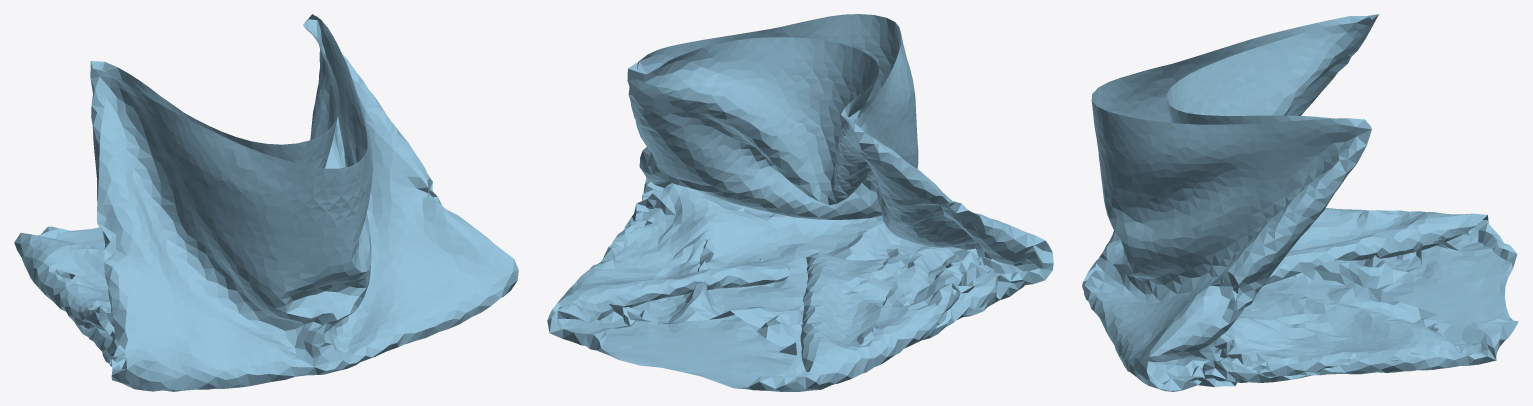
The model's file is frame_16.glb.
3 renders of one model, left to right at view 1: azimuth 30°, elevation 25°; view 2: azimuth 150°, elevation 25°; view 3: azimuth 270°, elevation 25°, orthographic.
Visible parts, largest first — view 1: frame_16.obj; view 2: frame_16.obj; view 3: frame_16.obj.
Boxes of the visible parts, x1,y1,x2,y2 form: frame_16.obj: (14,14,518,391); frame_16.obj: (547,14,1053,391); frame_16.obj: (1082,14,1518,391).
Bounding box in the file's own units: 1.1 × 0.6213 × 1.02.
